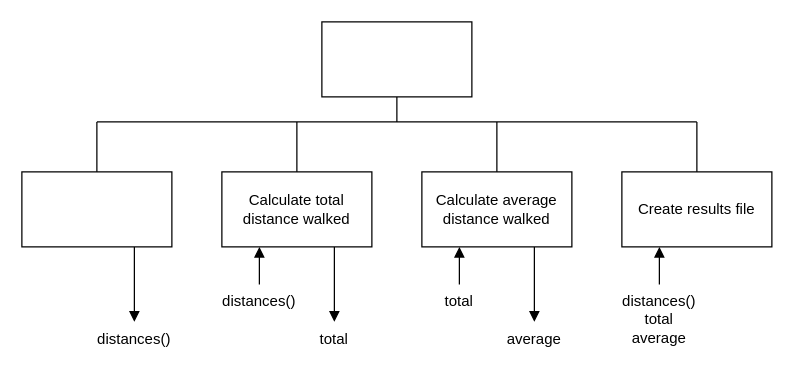
Some shapes in this 794 by 381 pixel diagram are drawn without their labels. Each missing label, with the box of its shape:
Get data: (21, 171, 172, 247)
Walking Distance App: (321, 21, 472, 97)
